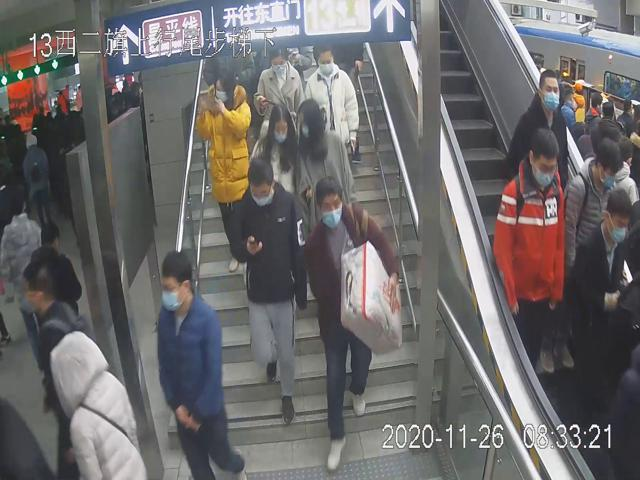person: (306, 175, 403, 478), (155, 246, 248, 478), (232, 154, 306, 430), (489, 123, 566, 380), (195, 67, 256, 276), (500, 66, 569, 212), (294, 96, 356, 227), (302, 42, 360, 151), (248, 101, 300, 195), (252, 43, 305, 120)
